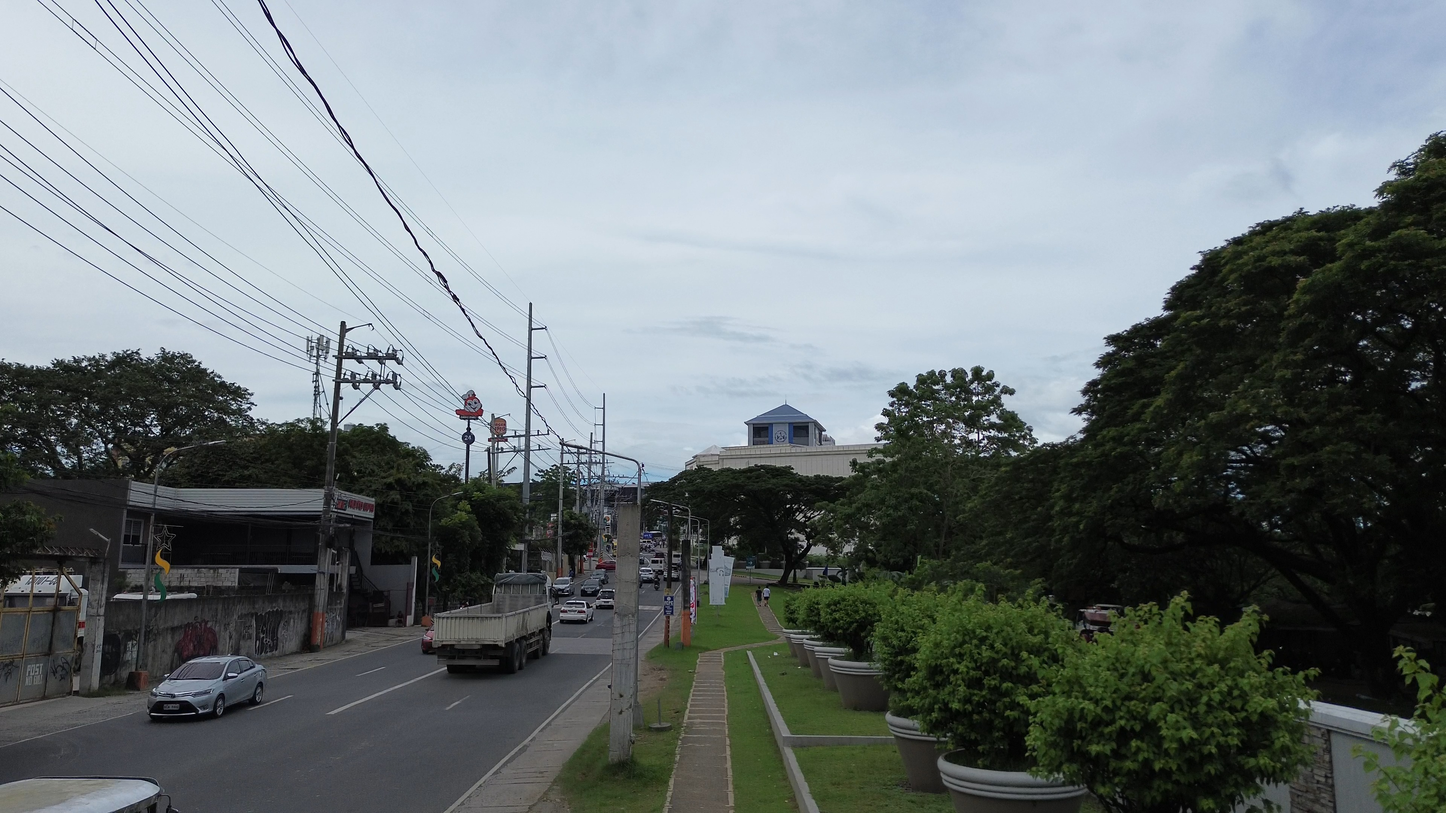car: (147, 657, 266, 719), (558, 600, 593, 623), (579, 579, 601, 596), (590, 569, 610, 585)
truck: (432, 574, 552, 673)
vehicle: (0, 776, 179, 813), (1076, 604, 1123, 640), (552, 577, 574, 597), (593, 588, 615, 608), (421, 627, 434, 654), (639, 568, 656, 583), (596, 560, 616, 571)
